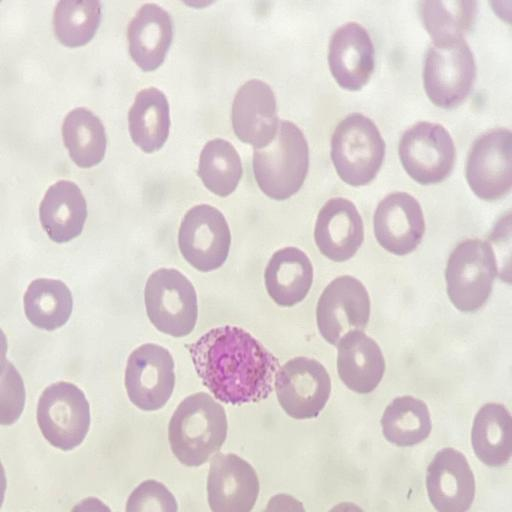Infected: (184, 328, 288, 405)
Uninfected: (253, 119, 310, 199), (169, 391, 228, 468), (331, 110, 386, 186), (34, 379, 91, 451), (444, 238, 499, 311), (316, 276, 372, 344), (398, 124, 457, 188), (177, 201, 230, 271), (424, 37, 476, 108), (144, 269, 197, 336), (123, 343, 176, 410), (231, 79, 279, 147), (467, 130, 512, 202), (336, 329, 386, 393), (278, 359, 330, 420), (127, 1, 171, 73), (313, 197, 363, 260), (427, 448, 476, 512), (38, 178, 87, 242), (328, 21, 374, 89), (376, 191, 424, 256), (264, 246, 315, 306), (210, 455, 260, 512), (62, 108, 108, 168), (22, 278, 74, 330), (200, 138, 243, 199), (473, 401, 512, 468), (129, 88, 168, 151), (383, 397, 432, 447), (51, 0, 104, 46)
